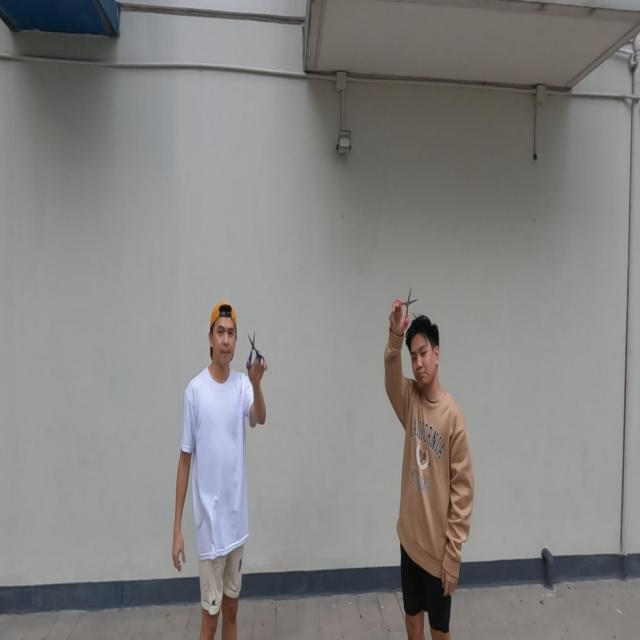scissor: (392, 286, 418, 332), (246, 329, 265, 372)
